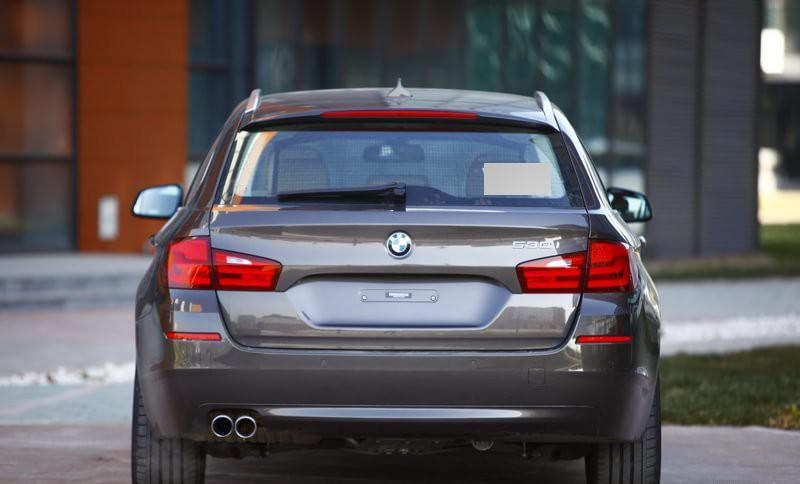Wagon: (130, 77, 664, 484)
